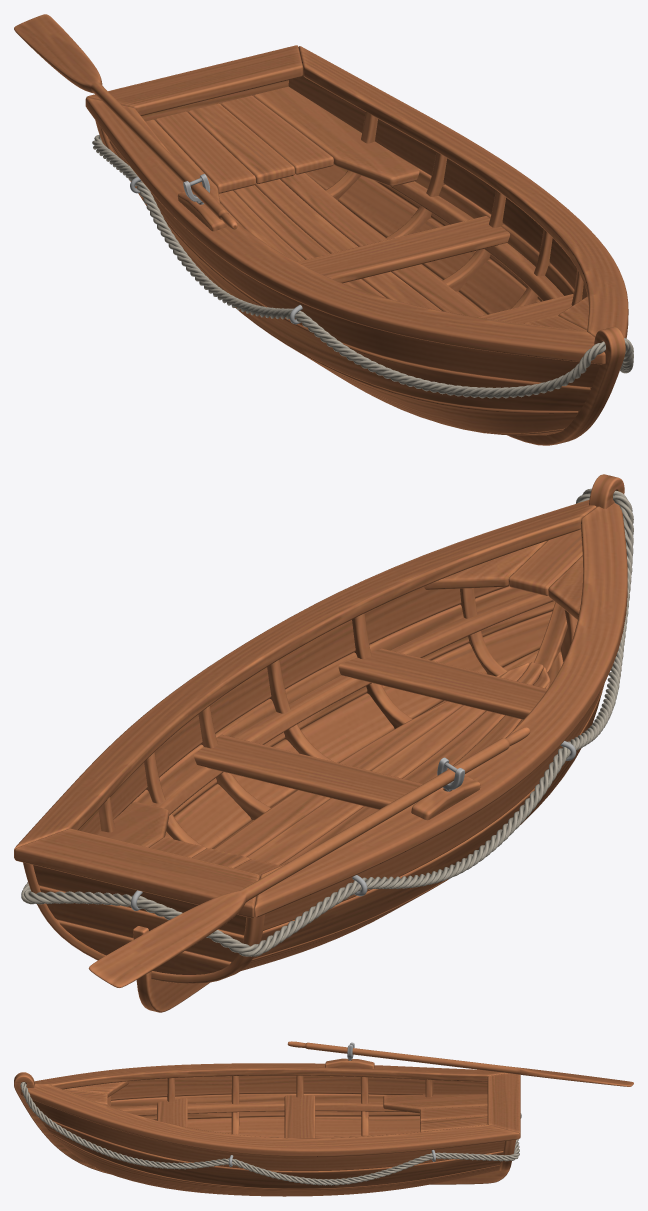
The model's file is fantasyBoat.fbx.
The picture shows the model from 3 angles, top to bottom: view 1: azimuth 30°, elevation 25°; view 2: azimuth 150°, elevation 25°; view 3: azimuth 270°, elevation 25°; orthographic projection. The views are drawn at different scales.
Visible parts, largest first — view 1: Boat_HP_Boat_HP_0; view 2: Boat_HP_Boat_HP_0; view 3: Boat_HP_Boat_HP_0.
Part boxes in pixels (<box>): Boat_HP_Boat_HP_0: <box>14,14,633,445</box>; Boat_HP_Boat_HP_0: <box>14,474,633,1012</box>; Boat_HP_Boat_HP_0: <box>14,1041,633,1196</box>.
Bounding box in the file's own units: 269 × 154 × 795.
